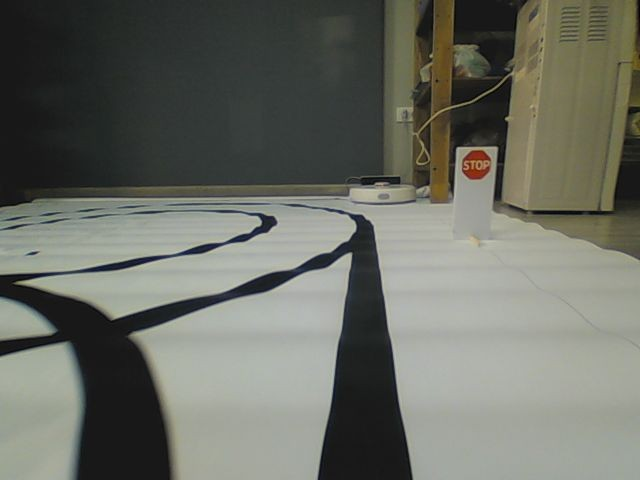Stop: (459, 149, 493, 180)
